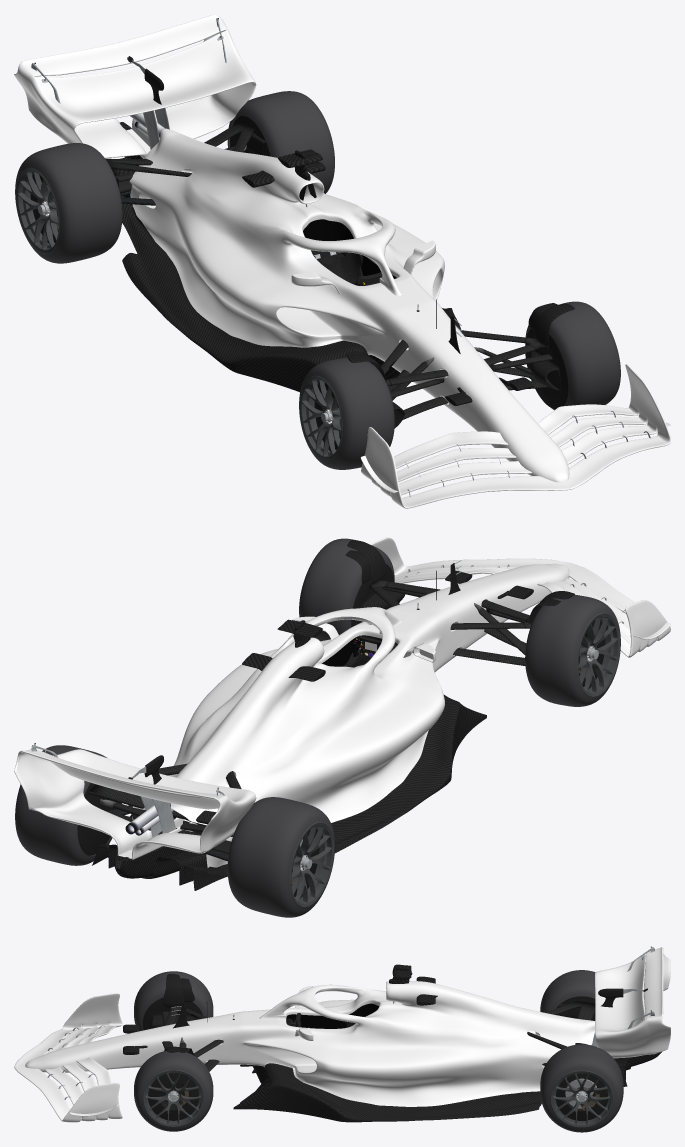
File: car.glb
3 views of the same model, one above another, from view 1: azimuth 30°, elevation 25°; view 2: azimuth 150°, elevation 25°; view 3: azimuth 270°, elevation 25° (orthographic). The views are drawn at different scales.
Visible parts, largest first — view 1: Object_7, Object_3, Object_9, Object_16, Object_15, Object_18, Object_14, Object_10, Object_13, Object_2, Object_11; view 2: Object_7, Object_3, Object_9, Object_16, Object_15, Object_18, Object_14, Object_10, Object_13, Object_11; view 3: Object_7, Object_3, Object_9, Object_16, Object_15, Object_14, Object_18, Object_11, Object_10, Object_2, Object_13.
Boxes of the visible parts, left/top/right/bottom form: Object_7: left=129, top=128, right=569, bottom=482; Object_3: left=14, top=14, right=670, bottom=508; Object_9: left=30, top=18, right=533, bottom=405; Object_16: left=15, top=91, right=334, bottom=263; Object_15: left=299, top=301, right=620, bottom=469; Object_18: left=38, top=113, right=552, bottom=419; Object_14: left=16, top=167, right=342, bottom=460; Object_10: left=525, top=303, right=574, bottom=409; Object_13: left=31, top=18, right=650, bottom=496; Object_2: left=303, top=219, right=396, bottom=278; Object_11: left=314, top=351, right=405, bottom=452; Object_7: left=132, top=563, right=569, bottom=867; Object_3: left=14, top=537, right=670, bottom=859; Object_9: left=34, top=563, right=533, bottom=898; Object_16: left=15, top=745, right=334, bottom=917; Object_15: left=299, top=538, right=620, bottom=706; Object_18: left=88, top=580, right=531, bottom=884; Object_14: left=290, top=612, right=620, bottom=907; Object_10: left=345, top=539, right=405, bottom=627; Object_13: left=31, top=560, right=625, bottom=870; Object_11: left=525, top=591, right=605, bottom=689; Object_7: left=25, top=981, right=595, bottom=1106; Object_3: left=14, top=947, right=670, bottom=1122; Object_9: left=123, top=946, right=661, bottom=1122; Object_16: left=540, top=970, right=623, bottom=1132; Object_15: left=134, top=971, right=213, bottom=1131; Object_14: left=143, top=1070, right=613, bottom=1127; Object_18: left=161, top=1001, right=606, bottom=1110; Object_11: left=143, top=974, right=202, bottom=1030; Object_10: left=148, top=1046, right=199, bottom=1120; Object_2: left=287, top=1003, right=379, bottom=1028; Object_13: left=47, top=947, right=654, bottom=1101.
Size of the model in its own units: 2.66 by 1.52 by 7.46.
10 materials, 5 textured.
